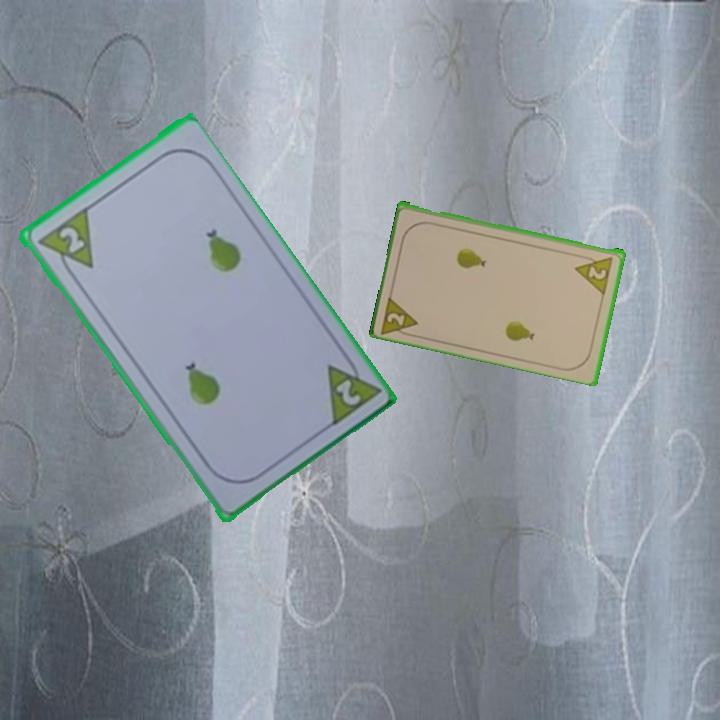2p: (322, 348, 382, 430), (377, 291, 422, 340), (572, 252, 616, 296), (54, 222, 87, 256)
